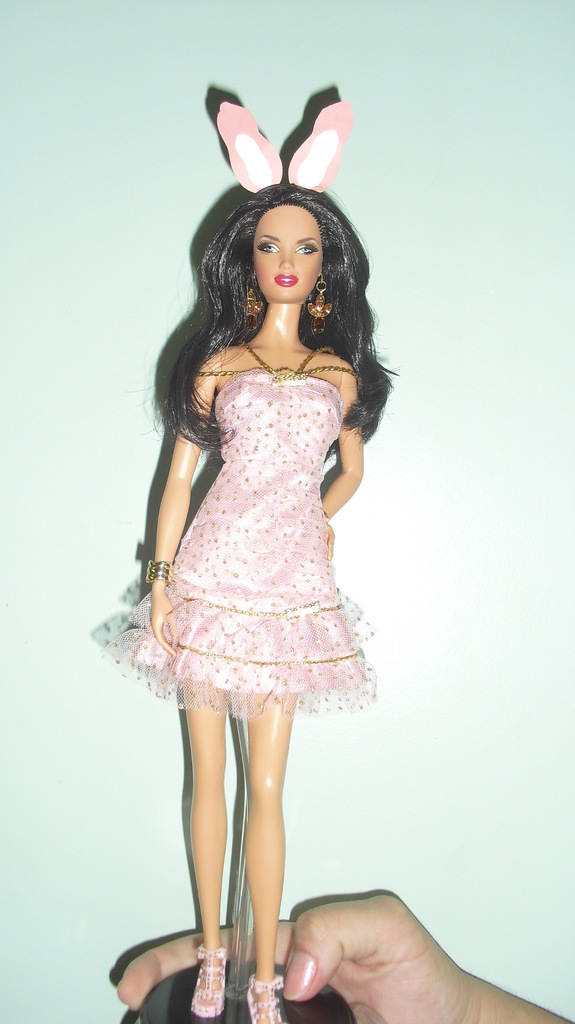Person: (116, 895, 574, 1024)
